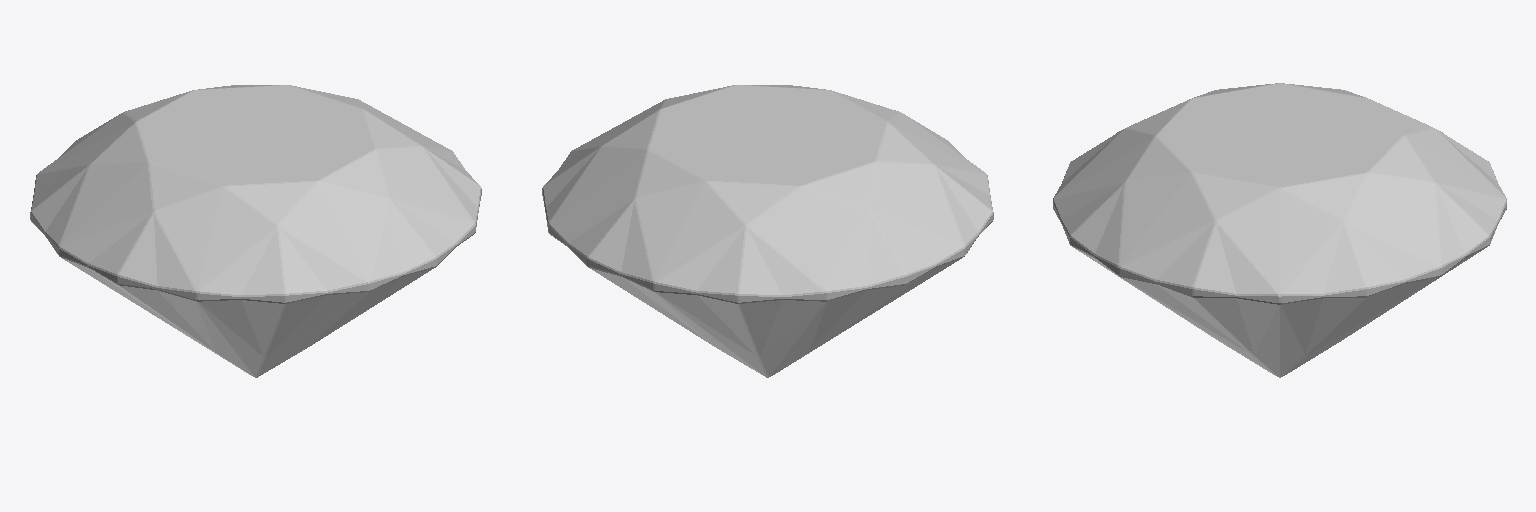
The model's file is Diamond_chetmat_pro_OBJ.obj.
3 views of the same model, side by side, from view 1: azimuth 30°, elevation 25°; view 2: azimuth 150°, elevation 25°; view 3: azimuth 270°, elevation 25° (orthographic).
Parts seen in each view (by area): view 1: NGon004; view 2: NGon004; view 3: NGon004.
Boxes of the visible parts, x1=… form: NGon004: x1=30, y1=85, x2=481, y2=377; NGon004: x1=542, y1=85, x2=993, y2=377; NGon004: x1=1053, y1=83, x2=1506, y2=377.
Bounding box in the file's own units: 25.17 × 14.73 × 25.17.